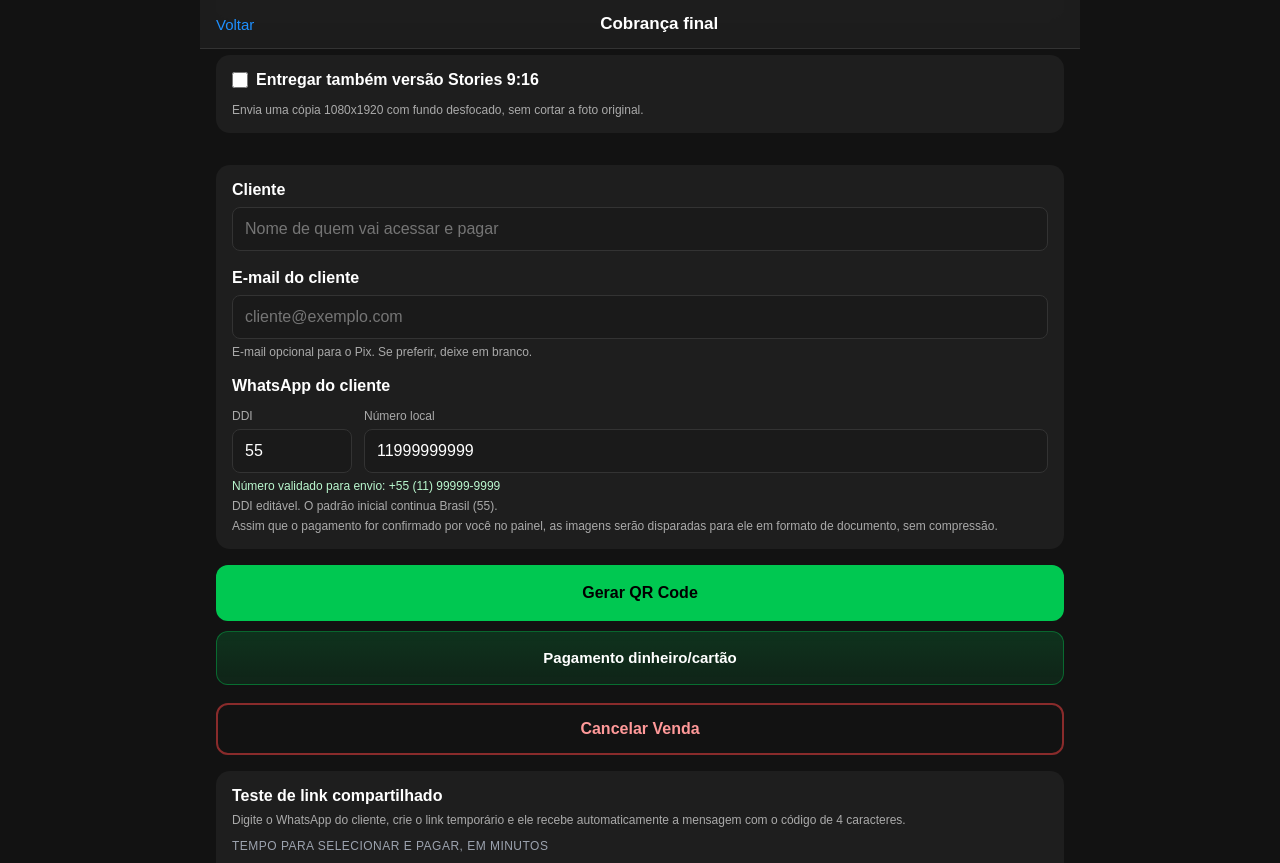
Test: SummaryScreen › keeps Brazil as the default DDI and lets the admin edit it
(page scrolled)
Type "54" into the 1st field with placeholder "55". click: (292, 450)
box: [232,428,352,472]
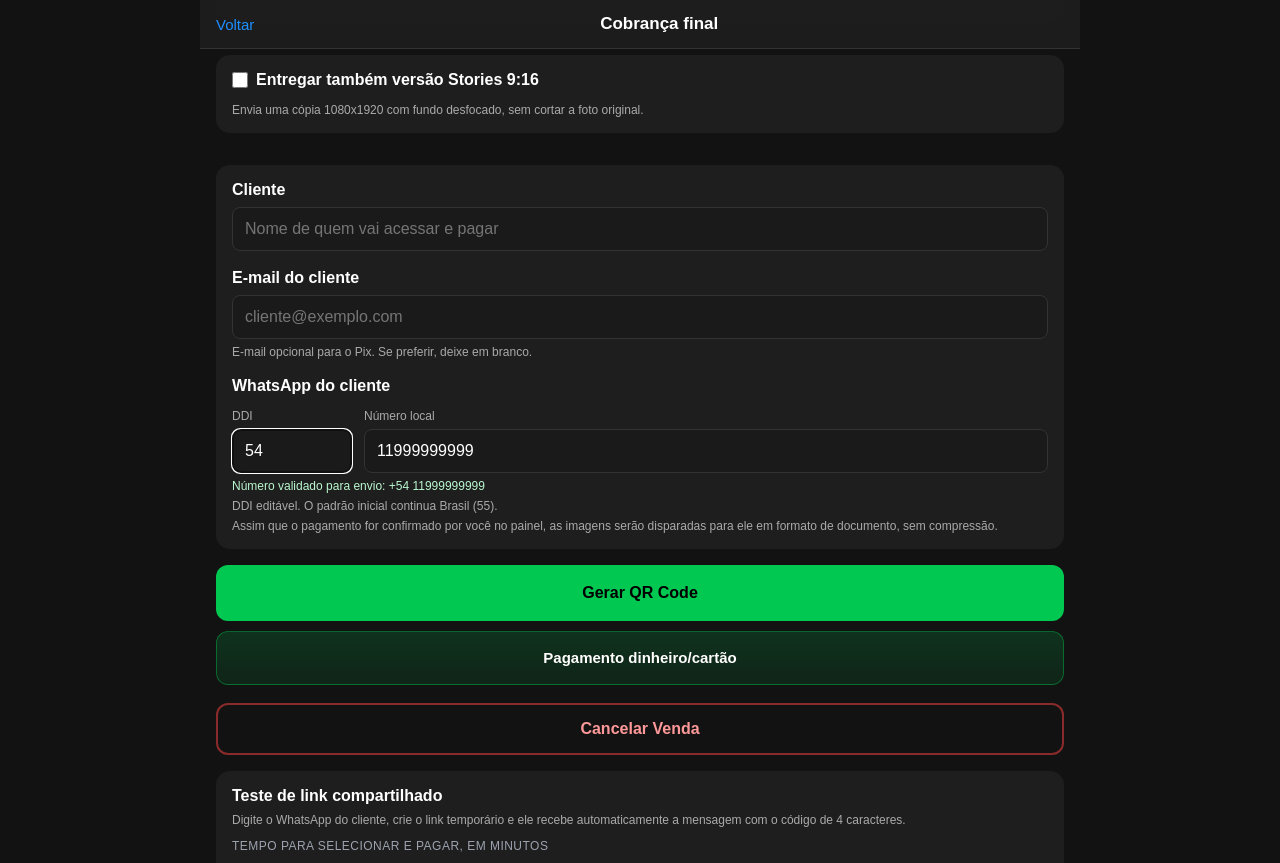
Replace the text in the field with placeholder "Número sem o DDI" below "Número local" with "1122334455". click: (706, 450)
box: [364,428,1048,472]
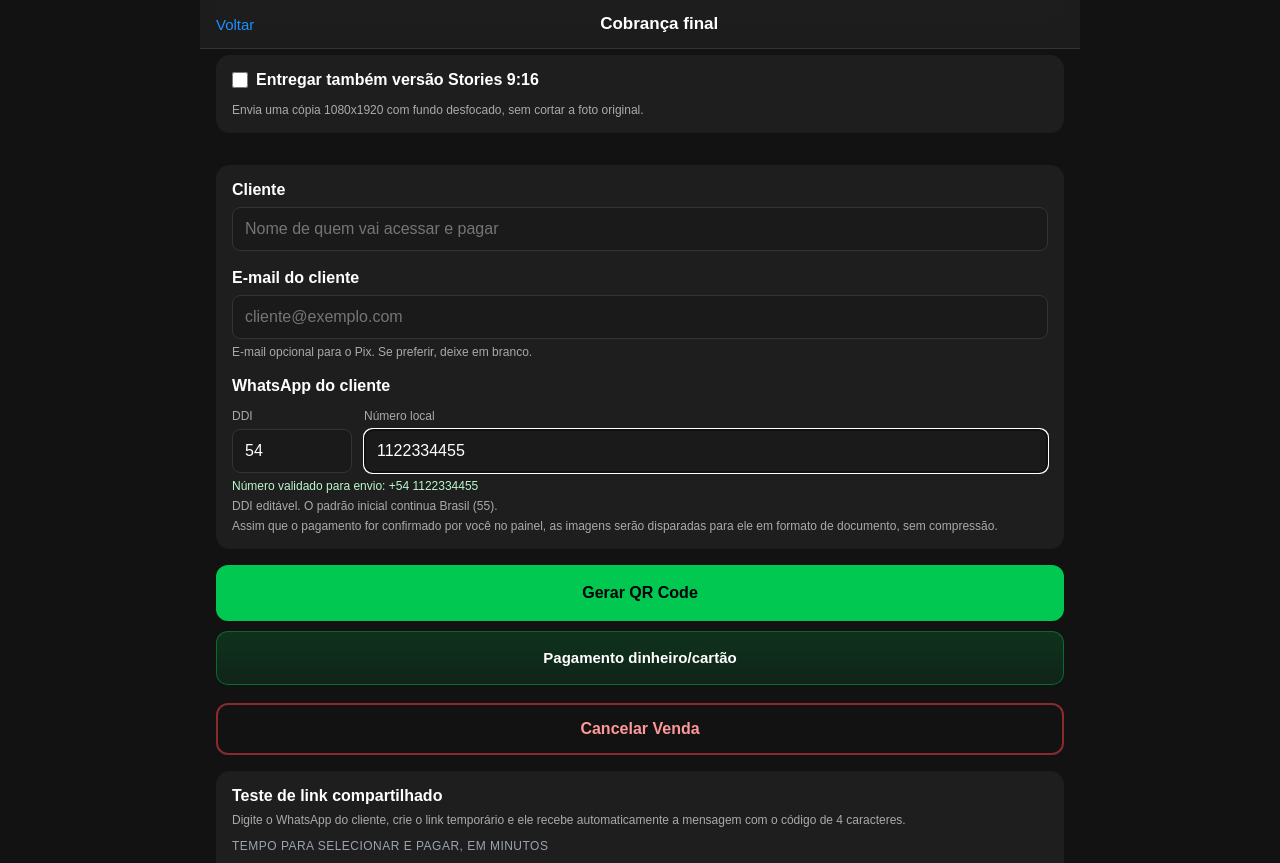
Result: the text "Número validado para envio: +54 1122334455" is shown at [232,478,478,492]
